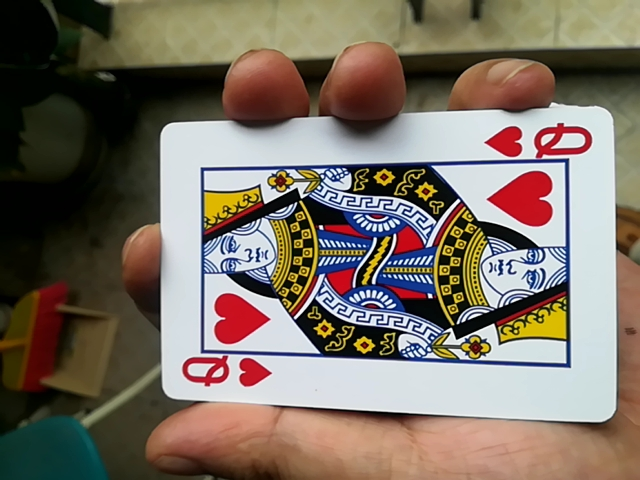hx q: (138, 107, 619, 427)
